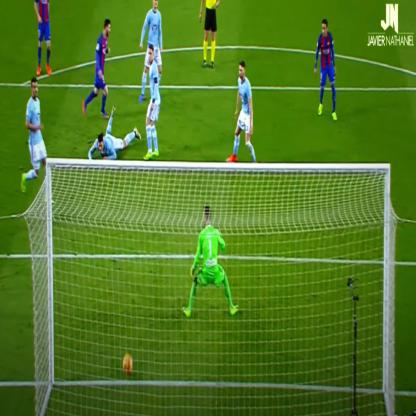goal: (30, 309, 147, 413)
